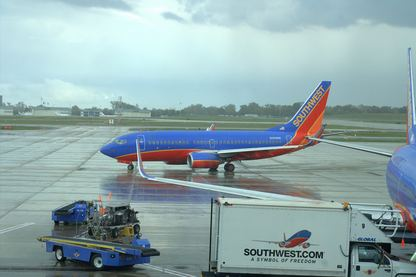truck: (80, 191, 141, 239), (53, 198, 96, 226)
